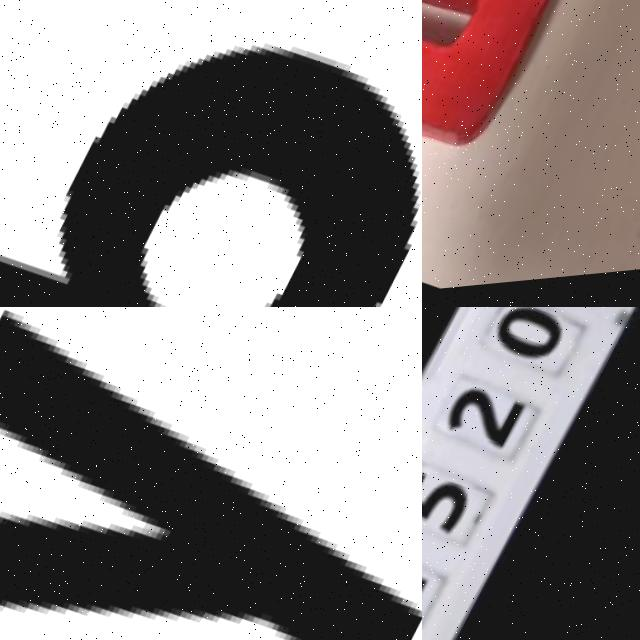0: (471, 307, 590, 391)
2: (430, 374, 544, 473)
4: (422, 541, 456, 640)
5: (422, 458, 498, 559)
B: (0, 52, 422, 307)
W: (422, 0, 640, 182)
Y: (0, 307, 422, 640)
